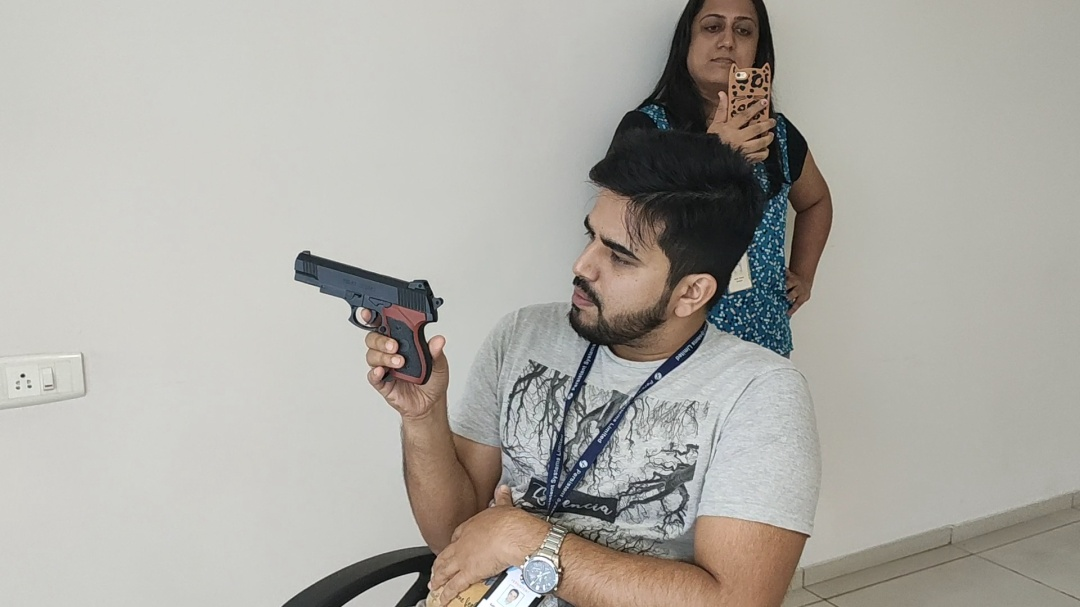gun: (292, 250, 445, 385)
